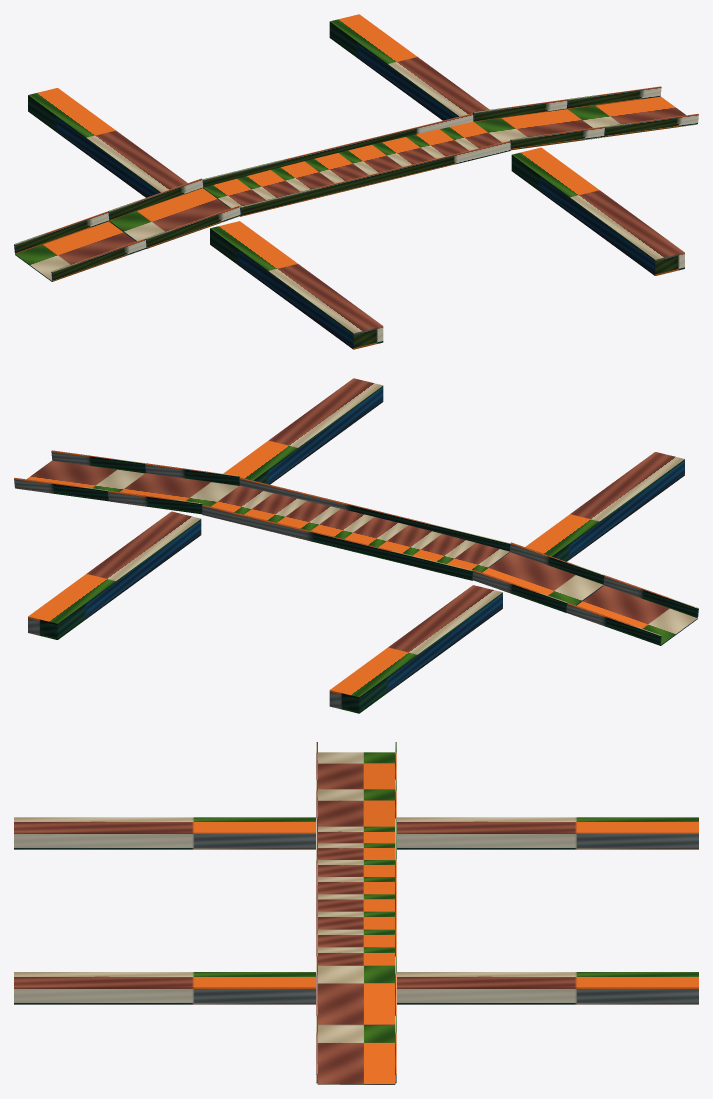
The model's file is HNP_Map007_BridgeCanal_Collision_v003.fbx.
The picture shows the model from 3 angles, top to bottom: view 1: azimuth 30°, elevation 25°; view 2: azimuth 150°, elevation 25°; view 3: azimuth 270°, elevation 25°; orthographic projection. The views are drawn at different scales.
Parts seen in each view (by area): view 1: UCX_BRIDGE_CanalBank_-1_South.001, UCX_BRIDGE_CanalBank_1_South.001, UCX_BRIDGE_CanalBank_-1_North.001, UCX_BRIDGE_CanalBank_1_North.001, UCX_BRIDGE_LeadIn_-1.001, UCX_BRIDGE_Approach_-1.001, UCX_BRIDGE_Rail_-1.001, UCX_BRIDGE_Approach_1.001, UCX_BRIDGE_LeadIn_1.001, UCX_BRIDGE_Rail_1.001, UCX_BRIDGE_Deck_3.001, UCX_BRIDGE_LeadInRail_-1_-1.001 (+14 smaller); view 2: UCX_BRIDGE_CanalBank_-1_North.001, UCX_BRIDGE_CanalBank_1_North.001, UCX_BRIDGE_CanalBank_-1_South.001, UCX_BRIDGE_CanalBank_1_South.001, UCX_BRIDGE_LeadIn_-1.001, UCX_BRIDGE_Approach_-1.001, UCX_BRIDGE_Rail_1.001, UCX_BRIDGE_Approach_1.001, UCX_BRIDGE_LeadIn_1.001, UCX_BRIDGE_Rail_-1.001, UCX_BRIDGE_Deck_3.001, UCX_BRIDGE_LeadInRail_-1_-1.001 (+14 smaller); view 3: UCX_BRIDGE_CanalBank_-1_North.001, UCX_BRIDGE_CanalBank_-1_South.001, UCX_BRIDGE_CanalBank_1_North.001, UCX_BRIDGE_CanalBank_1_South.001, UCX_BRIDGE_LeadIn_1.001, UCX_BRIDGE_Approach_1.001, UCX_BRIDGE_Approach_-1.001, UCX_BRIDGE_LeadIn_-1.001, UCX_BRIDGE_Deck_5.001, UCX_BRIDGE_Deck_6.001, UCX_BRIDGE_Deck_7.001, UCX_BRIDGE_Deck_0.001 (+4 smaller).
Boxes of the visible parts, <box> form: UCX_BRIDGE_CanalBank_-1_South.001: <box>210,221,383,349</box>; UCX_BRIDGE_CanalBank_1_South.001: <box>511,147,684,275</box>; UCX_BRIDGE_CanalBank_-1_North.001: <box>28,88,187,197</box>; UCX_BRIDGE_CanalBank_1_North.001: <box>329,14,489,120</box>; UCX_BRIDGE_LeadIn_-1.001: <box>15,221,145,281</box>; UCX_BRIDGE_Approach_-1.001: <box>109,188,239,248</box>; UCX_BRIDGE_Rail_-1.001: <box>240,141,510,216</box>; UCX_BRIDGE_Approach_1.001: <box>474,109,603,150</box>; UCX_BRIDGE_LeadIn_1.001: <box>568,96,697,137</box>; UCX_BRIDGE_Rail_1.001: <box>202,113,473,187</box>; UCX_BRIDGE_Deck_3.001: <box>305,153,368,183</box>; UCX_BRIDGE_LeadInRail_-1_-1.001: <box>51,239,146,281</box>; UCX_BRIDGE_CanalBank_-1_North.001: <box>329,585,502,713</box>; UCX_BRIDGE_CanalBank_1_North.001: <box>28,511,201,639</box>; UCX_BRIDGE_CanalBank_-1_South.001: <box>525,452,684,561</box>; UCX_BRIDGE_CanalBank_1_South.001: <box>223,378,383,484</box>; UCX_BRIDGE_LeadIn_-1.001: <box>567,585,697,645</box>; UCX_BRIDGE_Approach_-1.001: <box>473,552,603,612</box>; UCX_BRIDGE_Rail_1.001: <box>202,505,472,580</box>; UCX_BRIDGE_Approach_1.001: <box>109,473,238,514</box>; UCX_BRIDGE_LeadIn_1.001: <box>15,460,144,501</box>; UCX_BRIDGE_Rail_-1.001: <box>239,477,510,551</box>; UCX_BRIDGE_Deck_3.001: <box>344,517,407,547</box>; UCX_BRIDGE_LeadInRail_-1_-1.001: <box>603,575,698,617</box>; UCX_BRIDGE_CanalBank_-1_North.001: <box>397,817,698,849</box>; UCX_BRIDGE_CanalBank_-1_South.001: <box>14,817,315,849</box>; UCX_BRIDGE_CanalBank_1_North.001: <box>397,972,698,1004</box>; UCX_BRIDGE_CanalBank_1_South.001: <box>14,972,315,1004</box>; UCX_BRIDGE_LeadIn_1.001: <box>317,1025,395,1084</box>; UCX_BRIDGE_Approach_1.001: <box>318,966,394,1025</box>; UCX_BRIDGE_Approach_-1.001: <box>318,789,394,826</box>; UCX_BRIDGE_LeadIn_-1.001: <box>318,752,394,789</box>; UCX_BRIDGE_Deck_5.001: <box>318,911,394,929</box>; UCX_BRIDGE_Deck_6.001: <box>318,929,394,947</box>; UCX_BRIDGE_Deck_7.001: <box>318,947,394,965</box>; UCX_BRIDGE_Deck_0.001: <box>318,826,394,843</box>.
Bounding box in the file's own units: 8255 × 377 × 7200.
